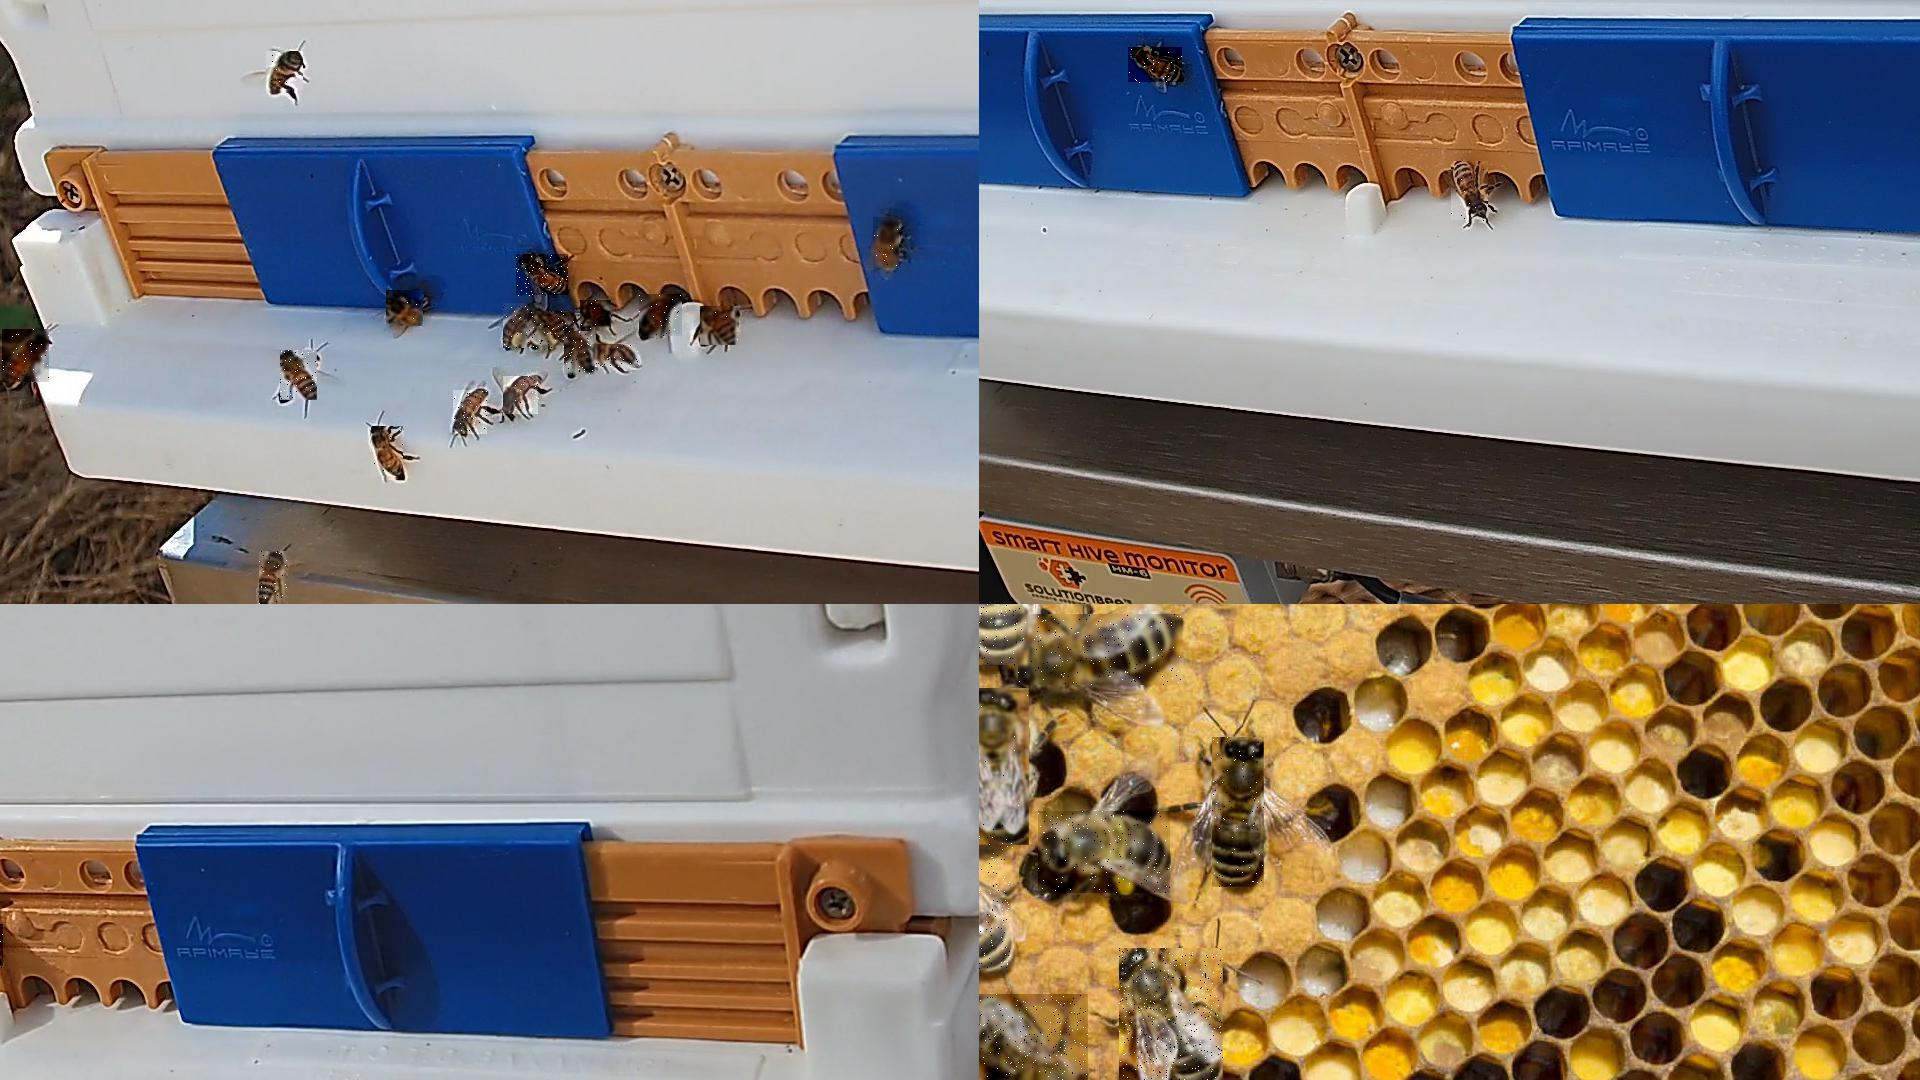bee: (1120, 948, 1225, 1079), (1019, 615, 1183, 686), (978, 994, 1091, 1079), (978, 688, 1031, 847), (1212, 737, 1265, 887), (978, 833, 1015, 972), (978, 604, 1033, 667), (3, 328, 50, 384), (516, 255, 568, 299), (1452, 162, 1489, 224), (1129, 47, 1183, 86), (280, 349, 318, 401), (640, 295, 683, 339), (371, 427, 404, 481), (266, 51, 305, 94), (504, 377, 542, 418), (454, 390, 488, 435), (702, 306, 740, 345), (260, 551, 289, 603), (564, 332, 597, 377), (873, 218, 901, 269), (386, 290, 425, 327), (587, 345, 641, 369), (580, 301, 612, 331)
pollenbee: (1038, 811, 1171, 894), (504, 303, 541, 349), (530, 313, 575, 349)
